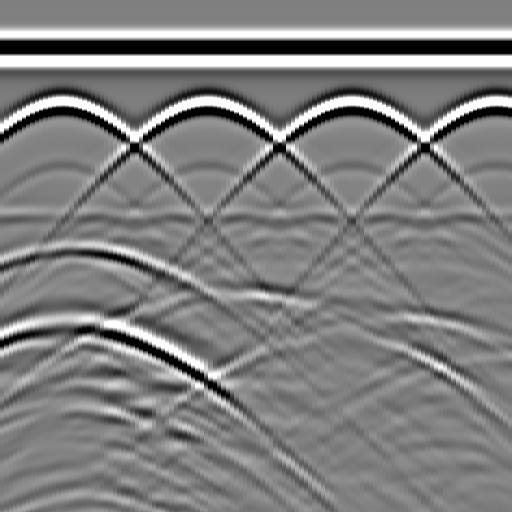grout_surface: (1, 202, 512, 232)
rebar: (41, 85, 81, 125), (185, 85, 225, 125), (329, 85, 369, 125), (473, 85, 512, 125)
rock_surface: (1, 290, 511, 387)
water_void: (41, 222, 101, 262)
